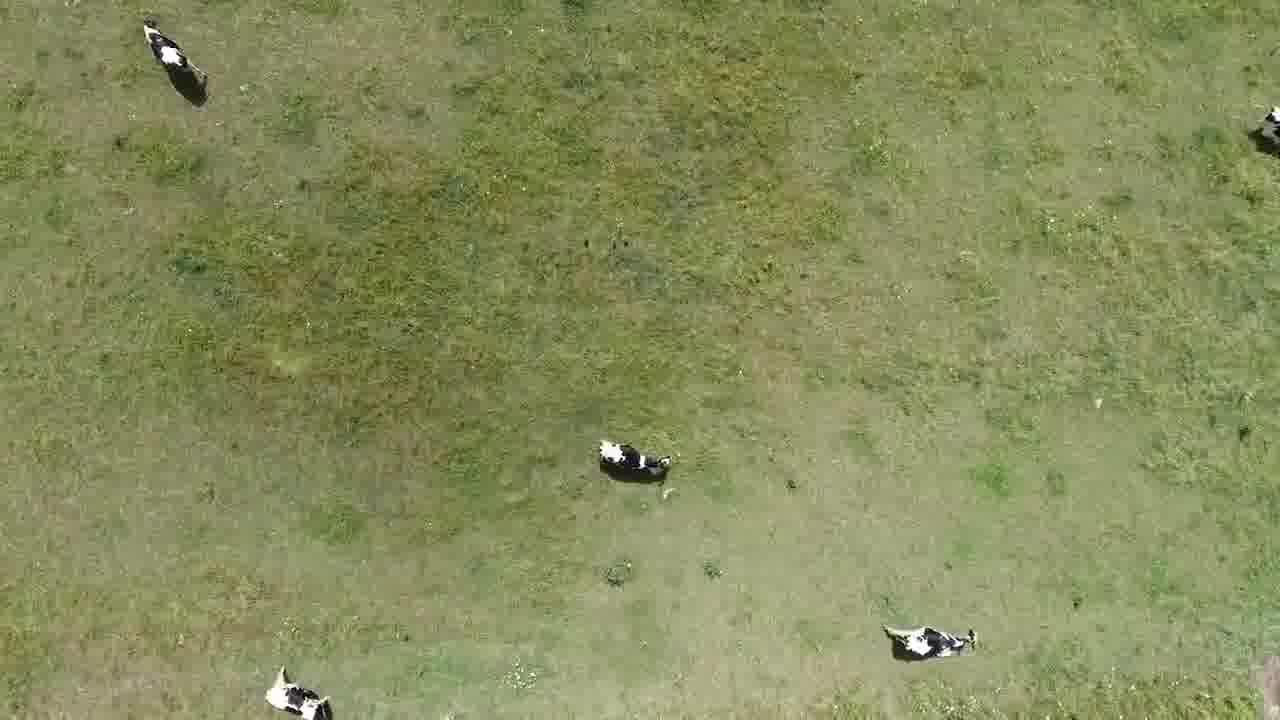cow: (139, 16, 212, 91), (879, 618, 982, 668), (261, 659, 336, 720), (597, 437, 676, 483), (1256, 99, 1280, 155)
